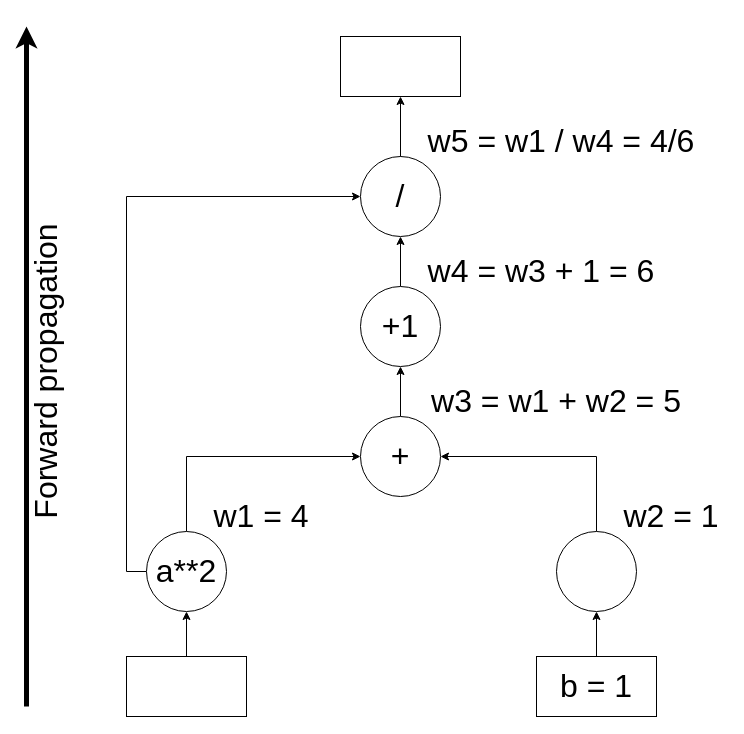
This 744x734 diagram has some shape labels left out. The box of each missing label's shape, as (x1, y1, x2, y2) in pixels:
a = 2: (126, 656, 246, 716)
b**2: (556, 530, 636, 612)
z(a, b): (340, 36, 460, 96)
